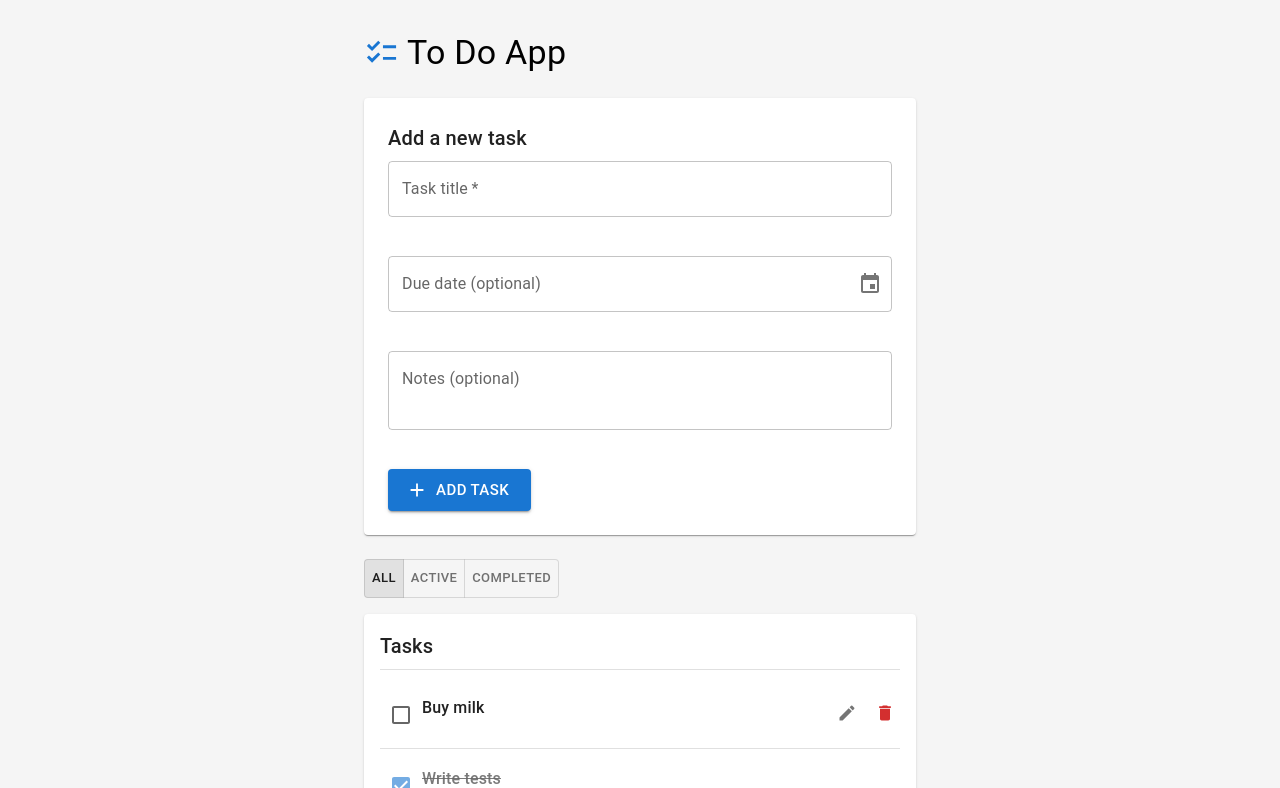
Test: App › deletes a task
Step 1. Click the button named "delete task: buy milk" → (885, 713), box [870,698,900,728]
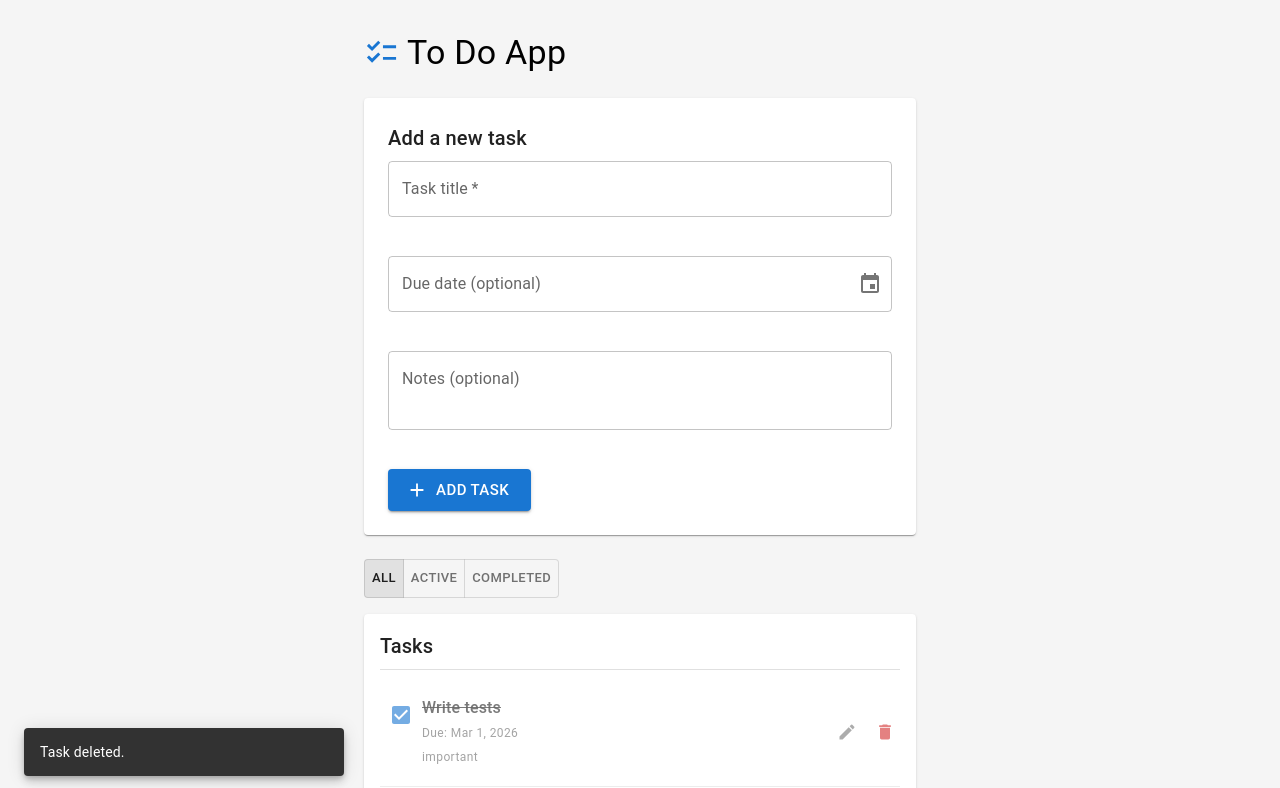
expect the text "Buy milk" is gone: met
